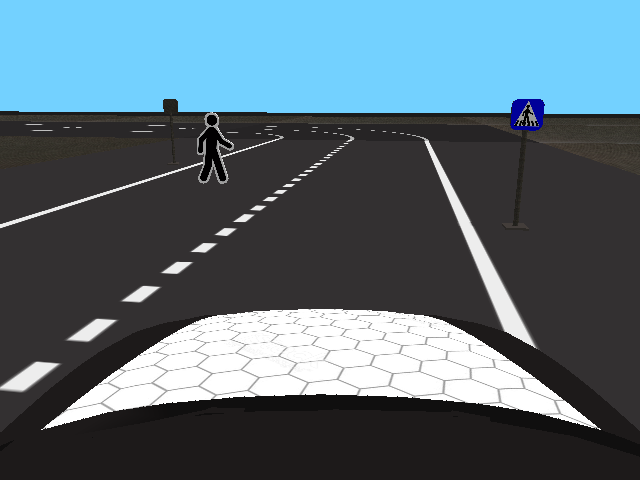pedestrian: (196, 111, 233, 185)
pedestrian_cross: (511, 99, 544, 130)
